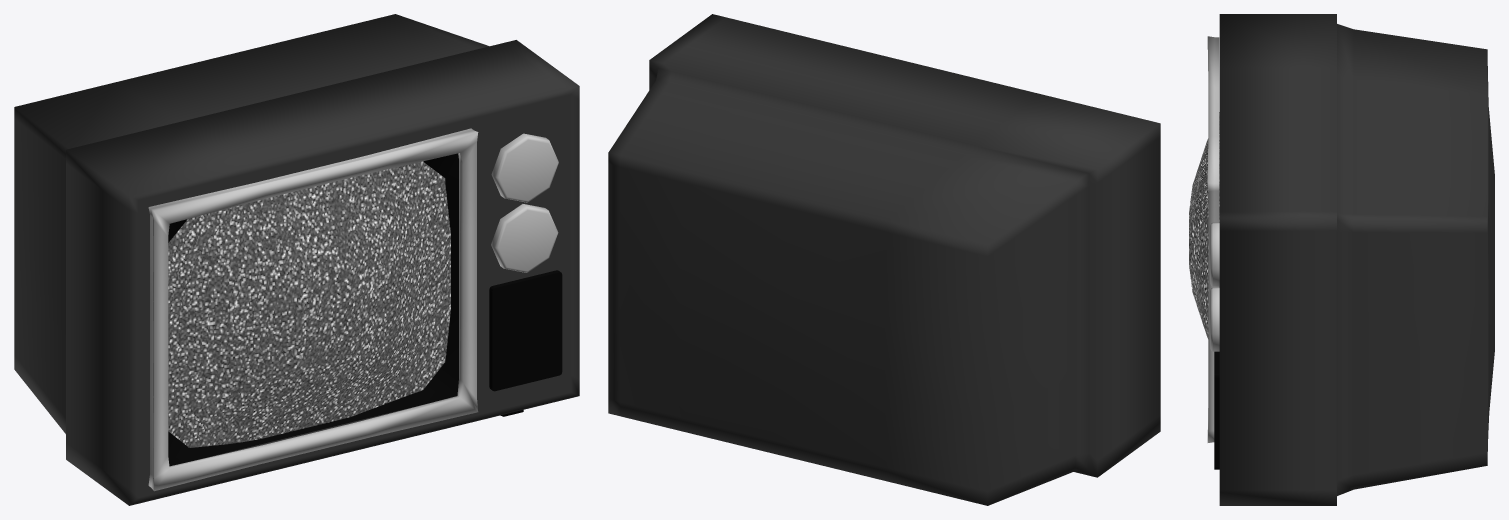
The model's file is old tv.glb.
3 views of the same model, side by side, from view 1: azimuth 30°, elevation 25°; view 2: azimuth 150°, elevation 25°; view 3: azimuth 270°, elevation 25° (orthographic). The views are drawn at different scales.
Parts seen in each view (by area): view 1: Cube, Cube.002, Cube.003, Cube.001, Cylinder.001, Cylinder.002; view 2: Cube; view 3: Cube, Cube.003, Cube.002, Cube.001, Cylinder.001, Cylinder.002.
Boxes of the visible parts, x1,y1,x2,y2 form: Cube: (14,14,579,505); Cube.002: (168,161,450,447); Cube.003: (148,128,478,491); Cube.001: (489,270,562,391); Cylinder.001: (491,204,558,272); Cylinder.002: (491,133,558,202); Cube: (608,14,1160,505); Cube: (1219,14,1494,505); Cube.003: (1207,36,1219,442); Cube.002: (1189,112,1219,338); Cube.001: (1214,351,1219,469); Cylinder.001: (1210,287,1219,351); Cylinder.002: (1210,222,1219,286).
Bounding box in the file's own units: 3.17 × 2.14 × 2.01.
Materials: 2 (2 with a texture image).
